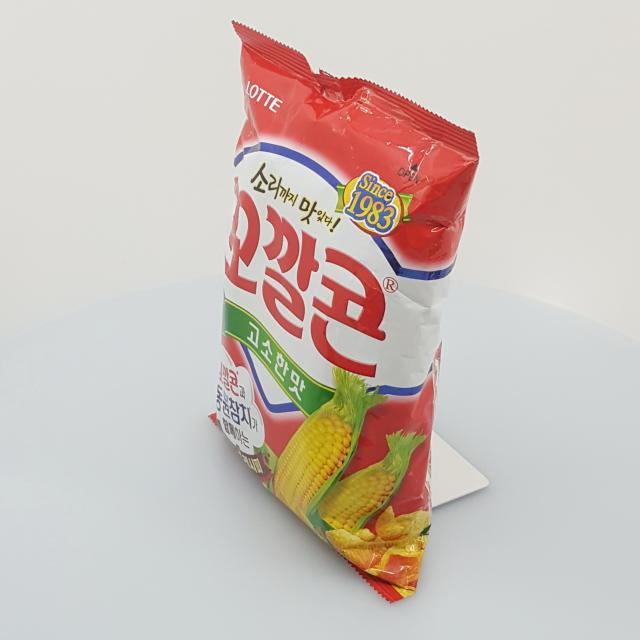-72G: (208, 20, 480, 605)
